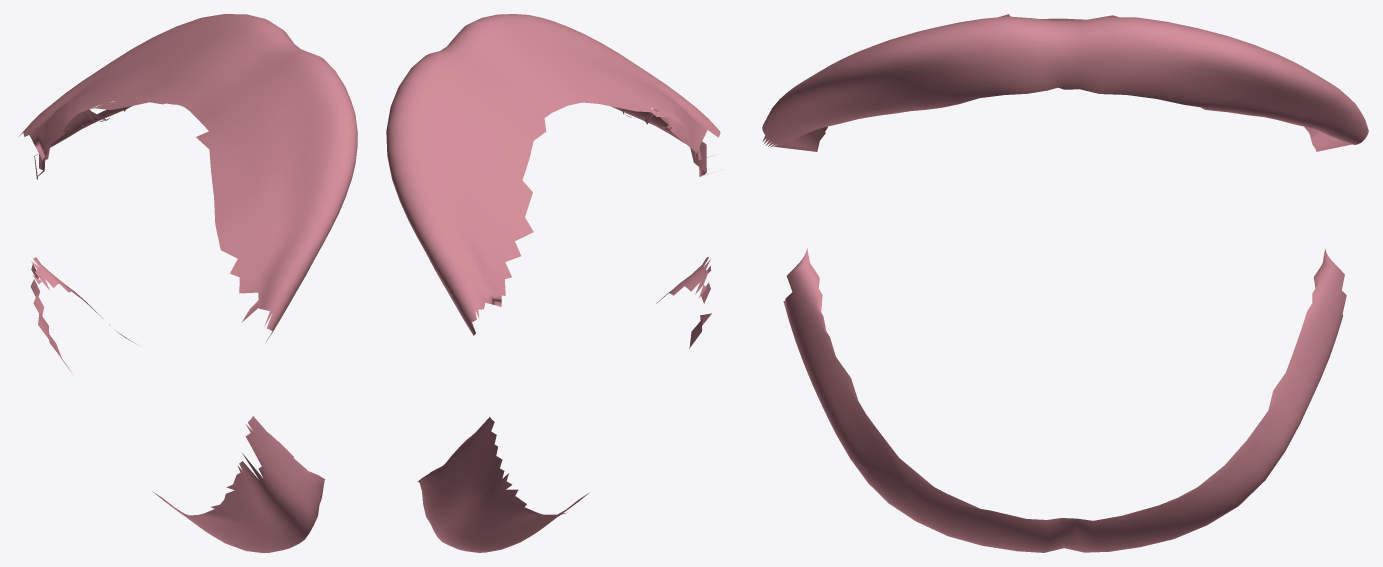
Rendered from realistic-open-mouth-lips-clean-tight-profiled.glb.
3 renders of one model, left to right at view 1: azimuth 30°, elevation 25°; view 2: azimuth 150°, elevation 25°; view 3: azimuth 270°, elevation 25°, orthographic. The views are drawn at different scales.
Visible parts, largest first — view 1: lips-clean-tight-profiled; view 2: lips-clean-tight-profiled; view 3: lips-clean-tight-profiled.
Part boxes in pixels (box(x1,y1,x2,y2)): lips-clean-tight-profiled: box(18, 14, 357, 552); lips-clean-tight-profiled: box(386, 14, 720, 552); lips-clean-tight-profiled: box(762, 14, 1368, 552).
Size of the model in its own units: 0.365 by 0.9483 by 0.9184.
